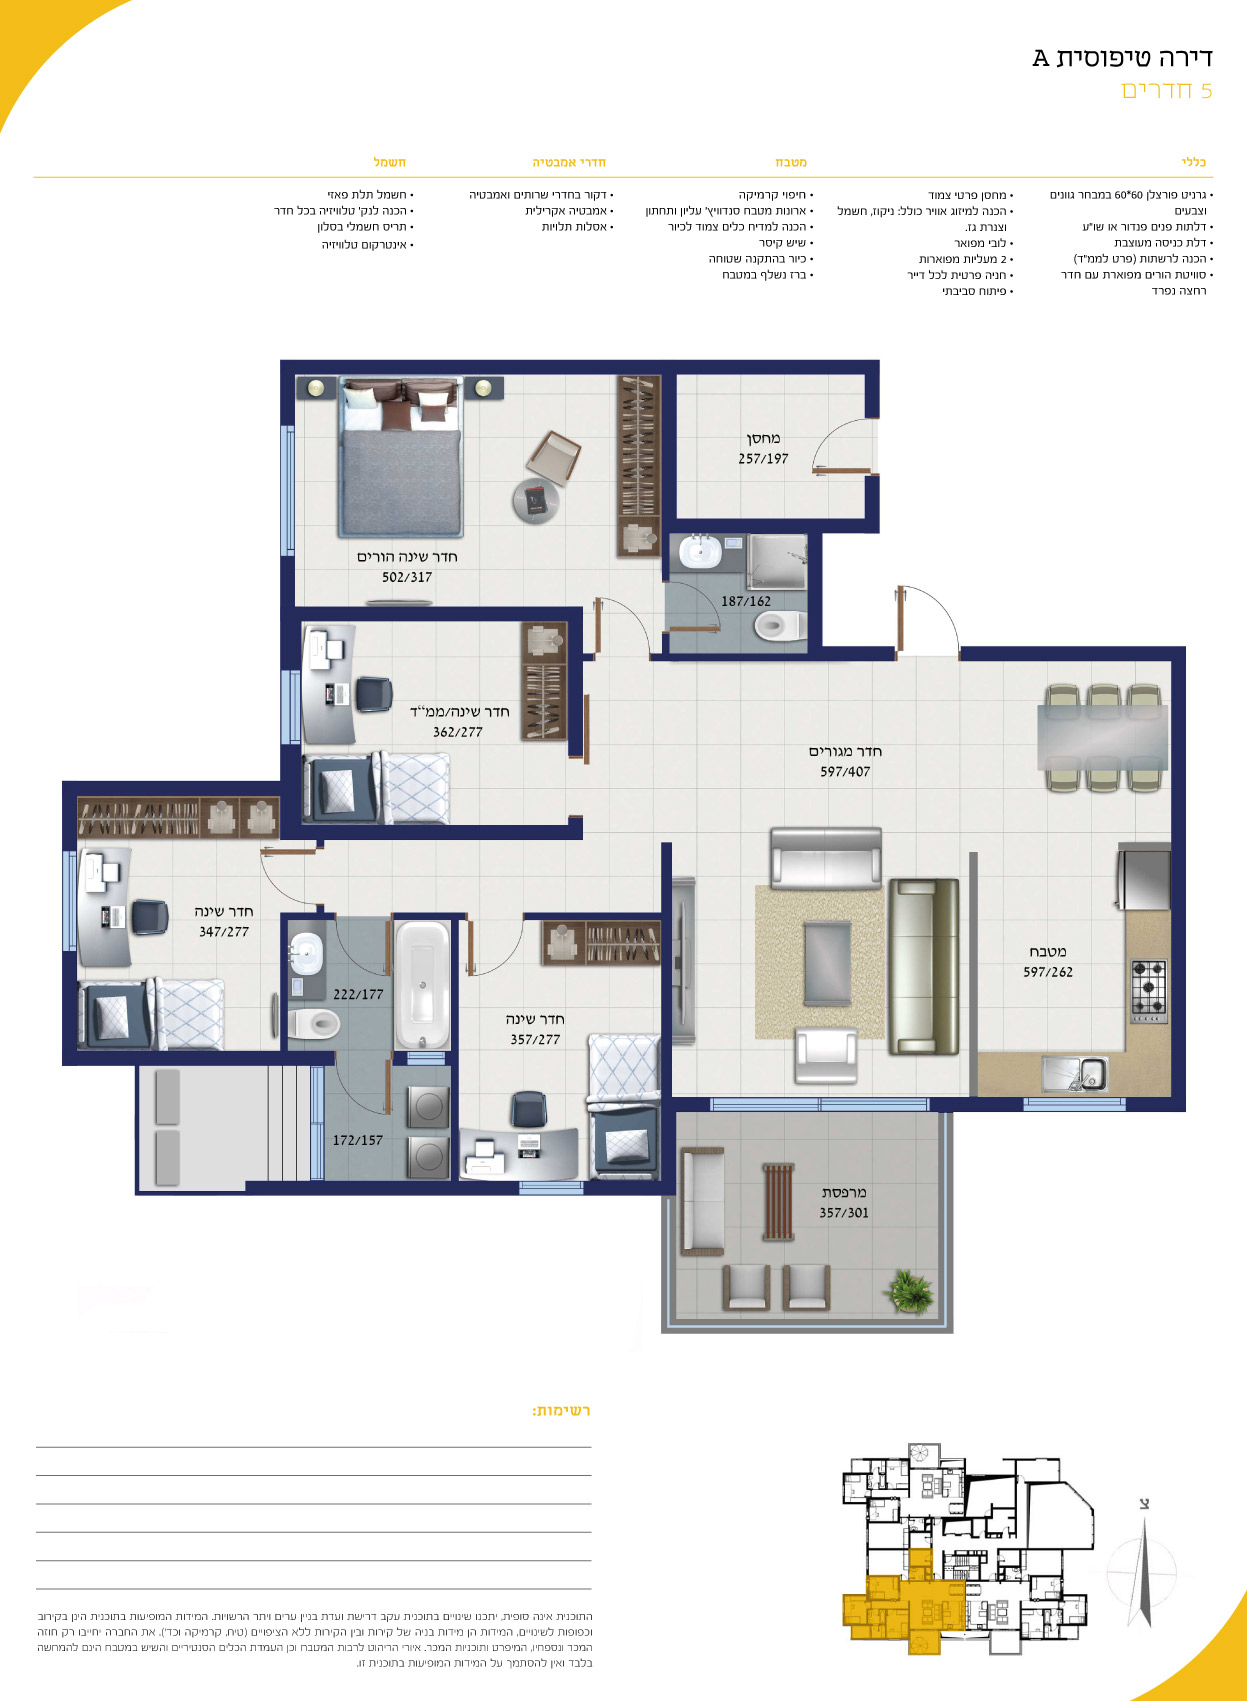door: (886, 572, 960, 643), (801, 413, 861, 497), (588, 589, 654, 650), (332, 1064, 402, 1119), (461, 932, 528, 983), (252, 845, 308, 906), (678, 577, 723, 641)
wall: (1169, 644, 1188, 1071), (247, 1181, 515, 1197), (933, 1099, 1021, 1113)
window: (281, 423, 296, 552), (279, 671, 300, 744), (1022, 1100, 1129, 1111), (823, 1097, 929, 1108), (309, 1064, 328, 1123), (711, 1097, 823, 1107), (518, 1182, 584, 1197), (310, 1127, 322, 1179)
